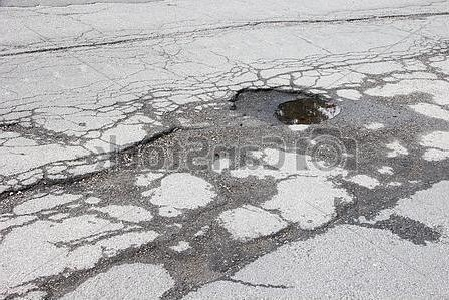pothole: (228, 81, 345, 126), (117, 123, 185, 154)
